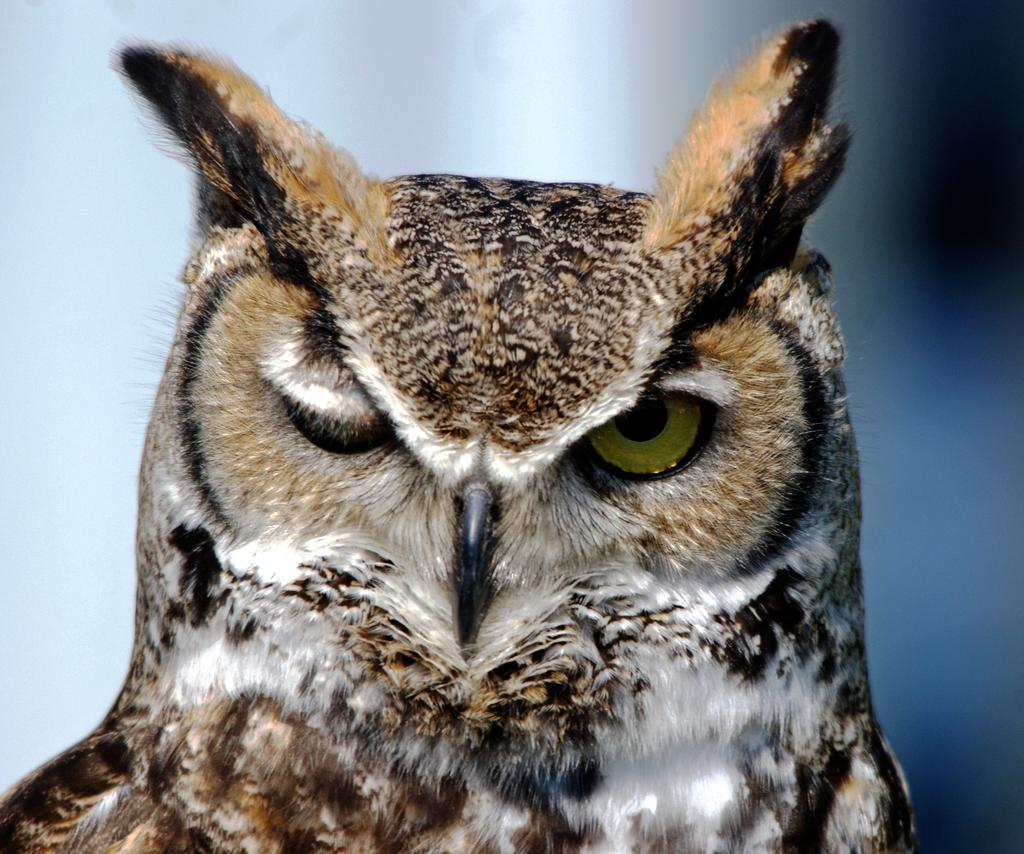Owl: (0, 19, 923, 854)
